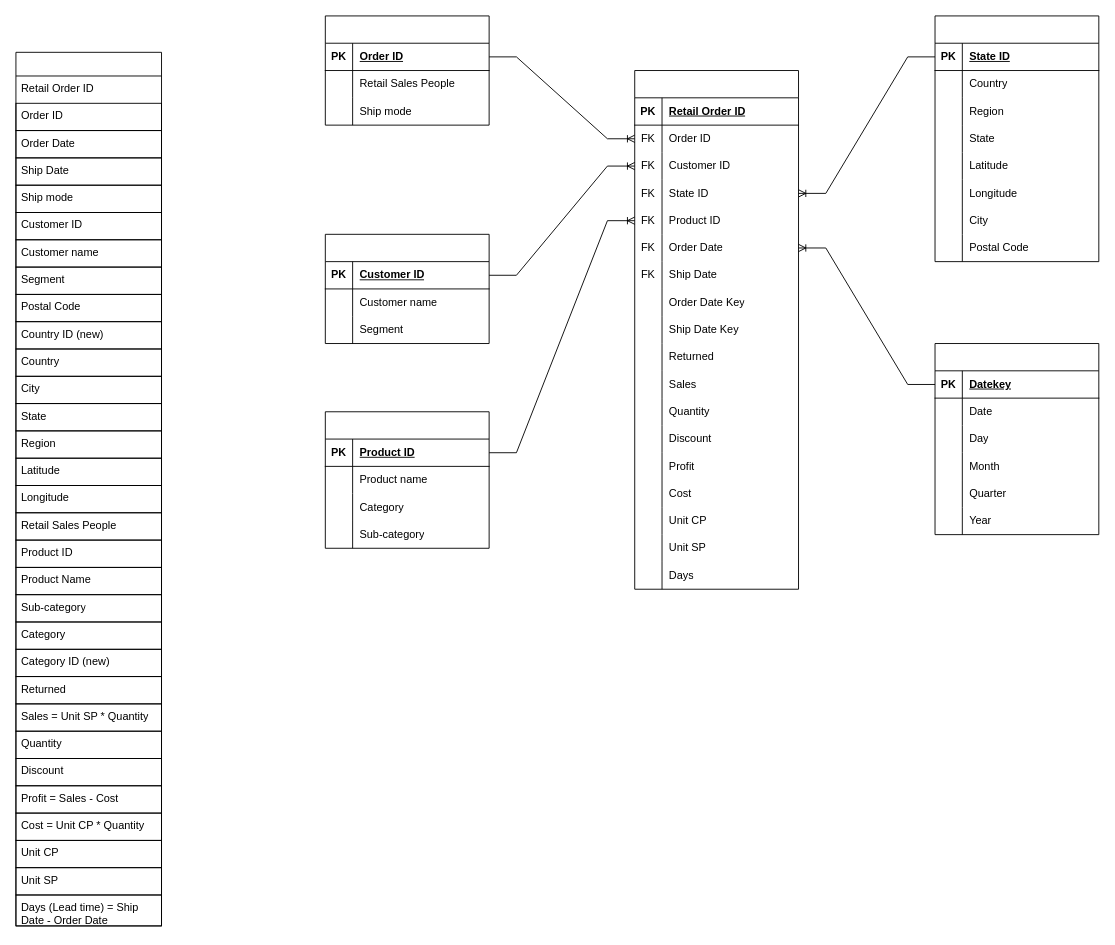
The diagram is 1115 pixels wide and 945 high, and some of its shapes have lost their labels. The shapes that lost their labels are listed below. From the top down, each one's box as (x1, y1, x2, y2) in pixels, then its label:
(324, 15, 489, 125): dim_order
(934, 15, 1099, 262): dim_country
(324, 233, 489, 344): dim_customer
(634, 70, 799, 589): fact_retail
(934, 343, 1099, 535): dim_date
(15, 51, 162, 926): Column name
(324, 411, 489, 548): dim_product
